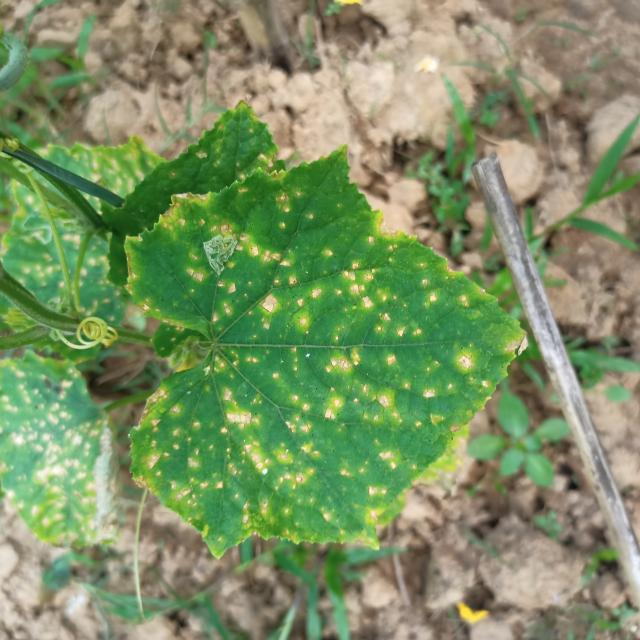disease_cucumber: (132, 180, 508, 547)
